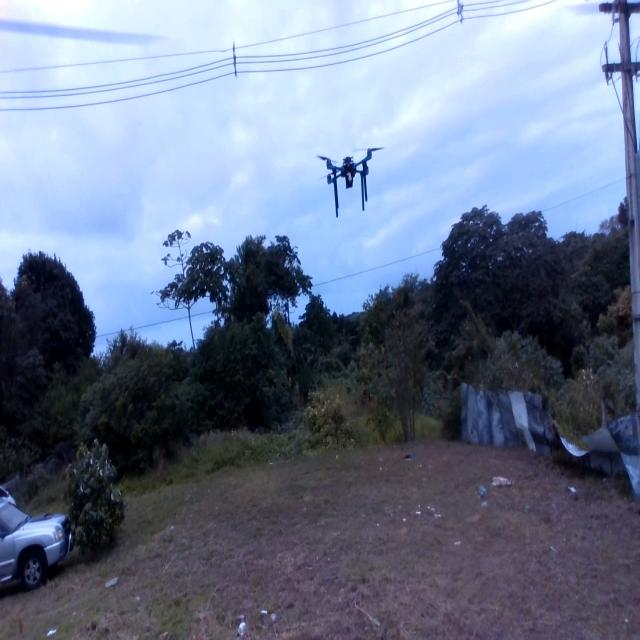-uav-: (308, 138, 394, 228)
